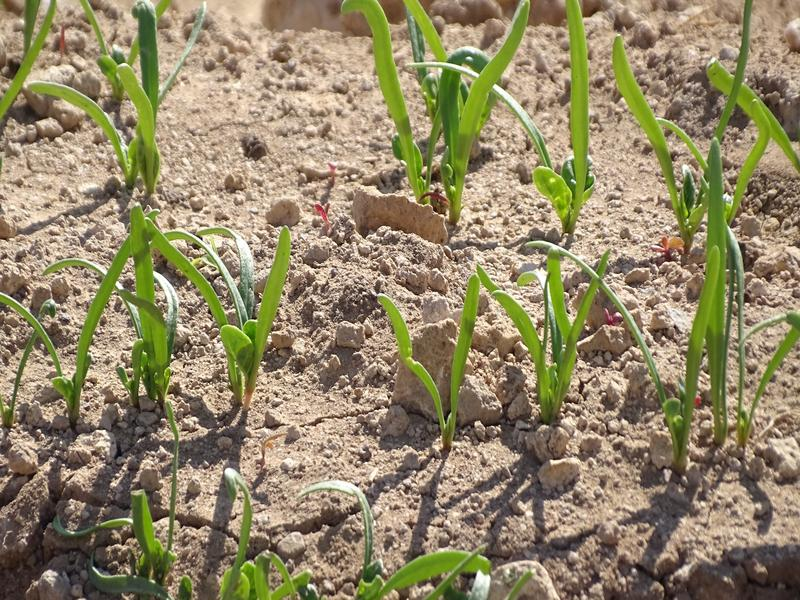Espinaca: (338, 3, 592, 228), (36, 208, 296, 415), (362, 241, 609, 427), (605, 9, 795, 223), (216, 465, 493, 600), (628, 241, 794, 443), (40, 8, 200, 196), (48, 472, 190, 595)
